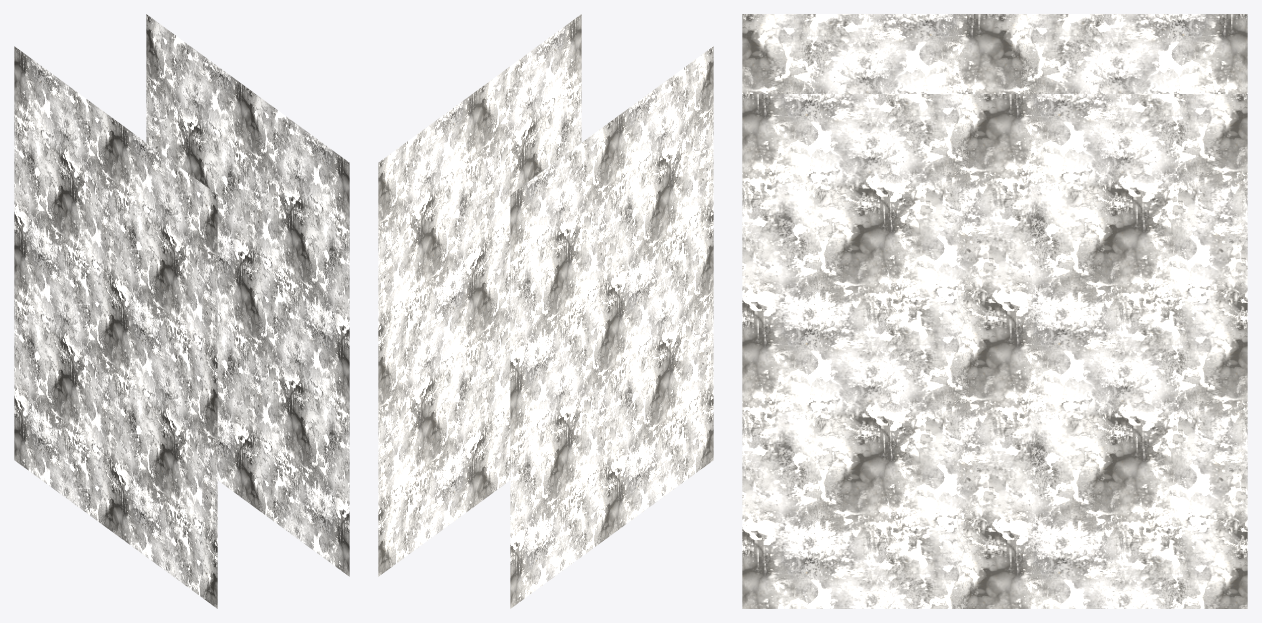
Rendered from SM_wall_B_4x4_01.fbx.
3 views of the same model, side by side, from view 1: azimuth 30°, elevation 25°; view 2: azimuth 150°, elevation 25°; view 3: azimuth 270°, elevation 25° (orthographic). The views are drawn at different scales.
Visible parts, largest first — view 1: SM_wall_B_4x4_01_LOD0; view 2: SM_wall_B_4x4_01_LOD0; view 3: SM_wall_B_4x4_01_LOD0.
Boxes of the visible parts, x1,y1,x2,y2 form: SM_wall_B_4x4_01_LOD0: [14, 14, 349, 608]; SM_wall_B_4x4_01_LOD0: [378, 14, 713, 608]; SM_wall_B_4x4_01_LOD0: [742, 14, 1247, 608].
Size of the model in its own units: 150 by 400 by 450.
1 material, 1 textured.
